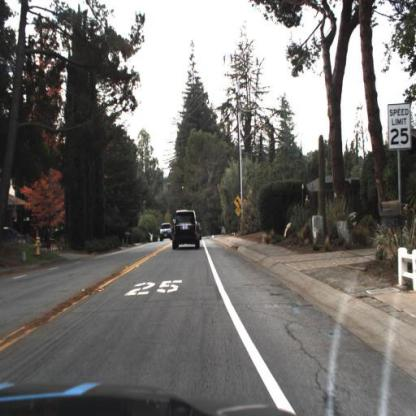car: (172, 208, 200, 249), (160, 221, 172, 242)
